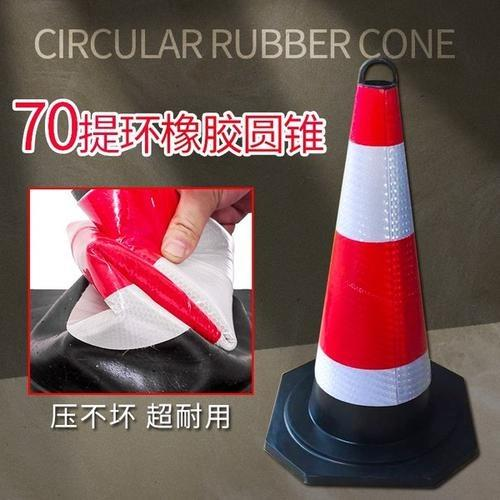cone_barrel: (286, 64, 455, 468)
